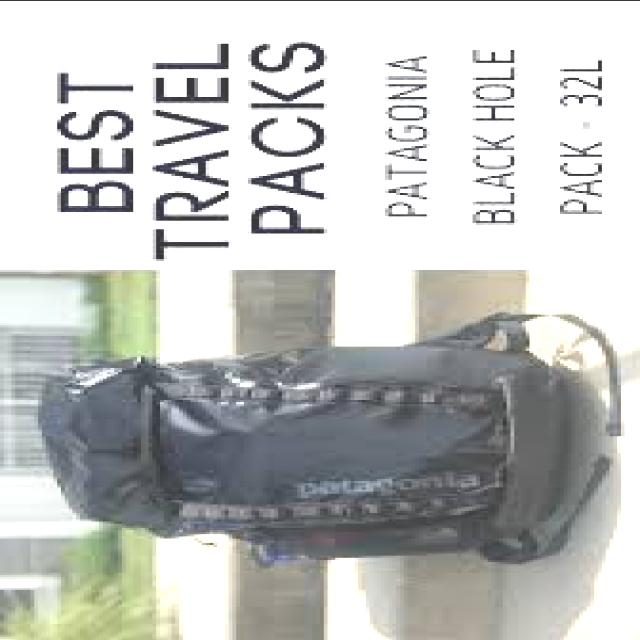backpack: (35, 313, 618, 569)
